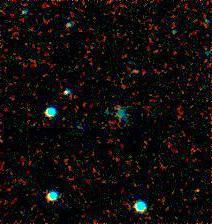star: (183, 175, 212, 205)
